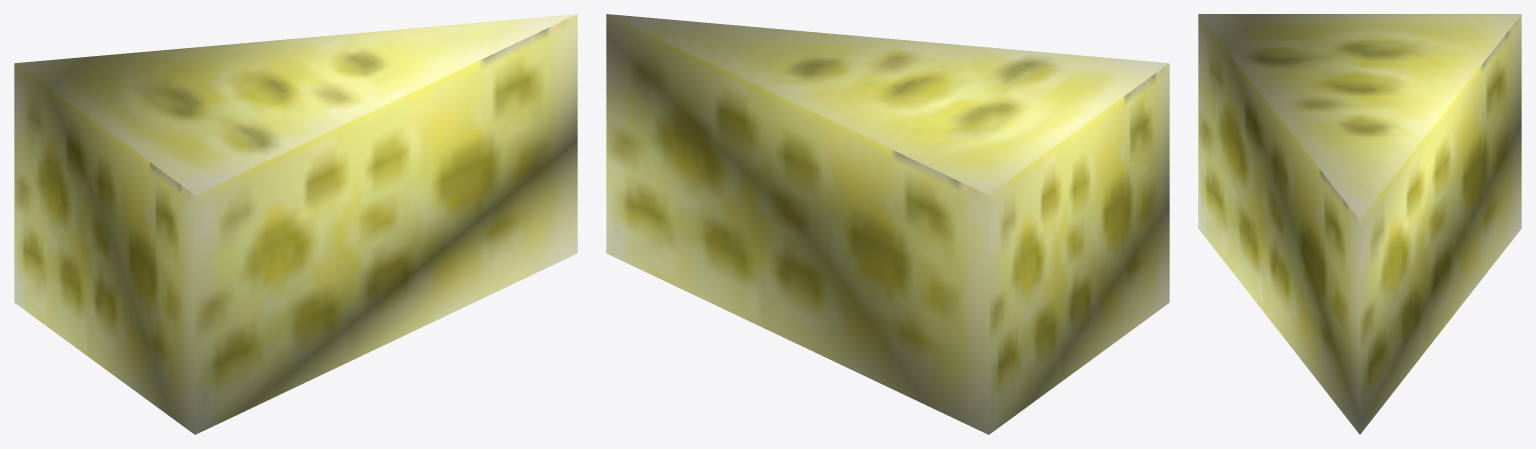
File: cheesewedgeswiss01.obj
3 views of the same model, side by side, from view 1: azimuth 30°, elevation 25°; view 2: azimuth 150°, elevation 25°; view 3: azimuth 270°, elevation 25° (orthographic). The views are drawn at different scales.
Visible parts, largest first — view 1: cheesewedgeswiss01; view 2: cheesewedgeswiss01; view 3: cheesewedgeswiss01.
Part boxes in pixels (x1,y1,x2,y2): cheesewedgeswiss01: [14, 14, 577, 434]; cheesewedgeswiss01: [606, 14, 1169, 434]; cheesewedgeswiss01: [1198, 14, 1521, 434].
Size of the model in its own units: 0.0679 by 0.0328 by 0.0449.
Materials: 1 (1 with a texture image).
